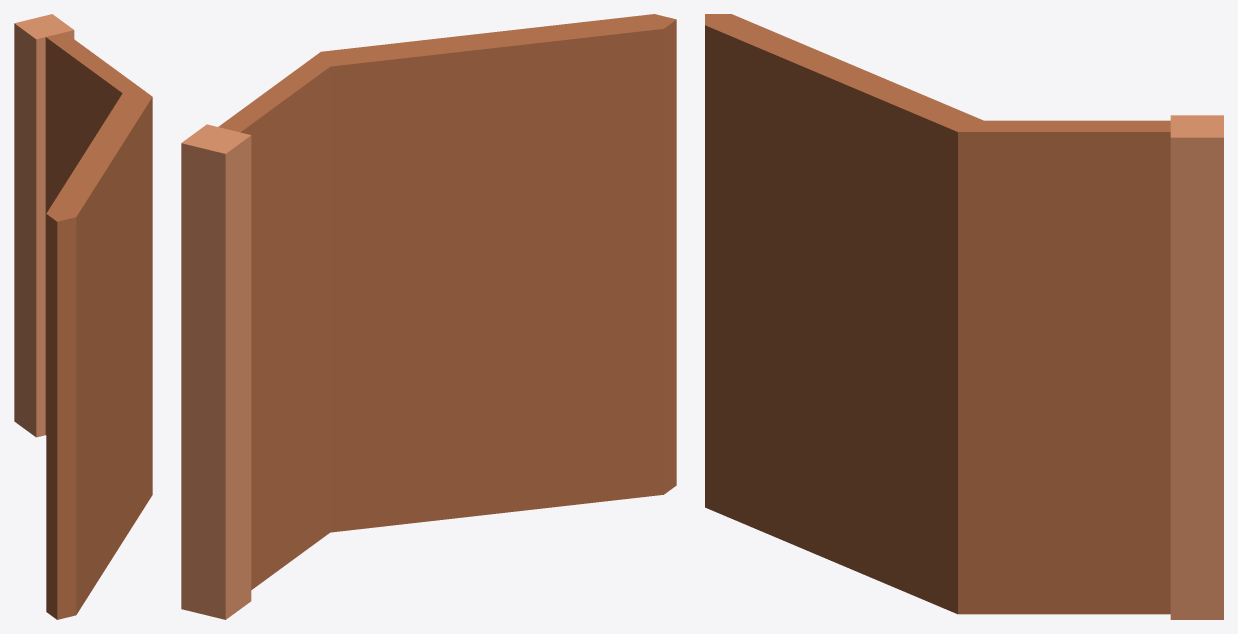
Rendered from wallWoodCornerDiagonalHalf.fbx.
3 renders of one model, left to right at view 1: azimuth 30°, elevation 25°; view 2: azimuth 150°, elevation 25°; view 3: azimuth 270°, elevation 25°, orthographic. The views are drawn at different scales.
Parts seen in each view (by area): view 1: wallWoodCornerDiagonalHalf; view 2: wallWoodCornerDiagonalHalf; view 3: wallWoodCornerDiagonalHalf.
Part boxes in pixels (bbox=[...]): wallWoodCornerDiagonalHalf: bbox=[14, 14, 152, 619]; wallWoodCornerDiagonalHalf: bbox=[181, 14, 676, 619]; wallWoodCornerDiagonalHalf: bbox=[705, 14, 1223, 619].
Bounding box in the file's own units: 5.5 × 10 × 9.75.
